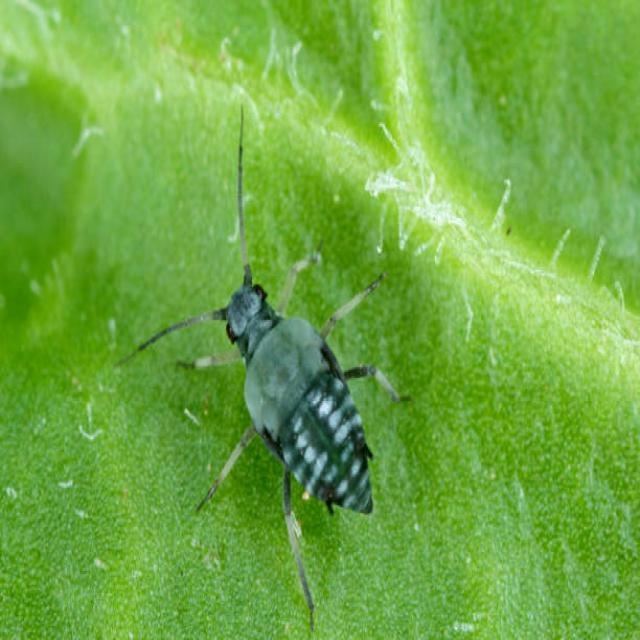Aphid-Grown-: (129, 208, 439, 555)
